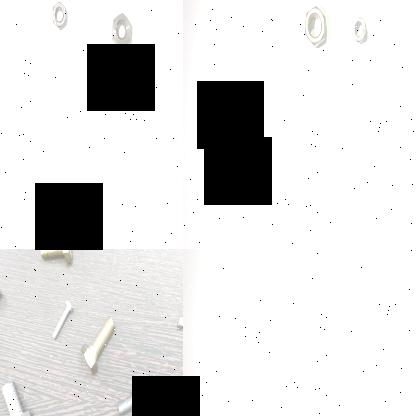Bolts: (76, 311, 118, 377), (0, 375, 36, 416), (48, 296, 76, 344), (113, 376, 145, 416), (36, 249, 74, 270), (175, 310, 183, 346)
NUTS: (301, 0, 328, 50), (107, 5, 134, 54), (348, 9, 372, 49), (50, 2, 70, 30)
